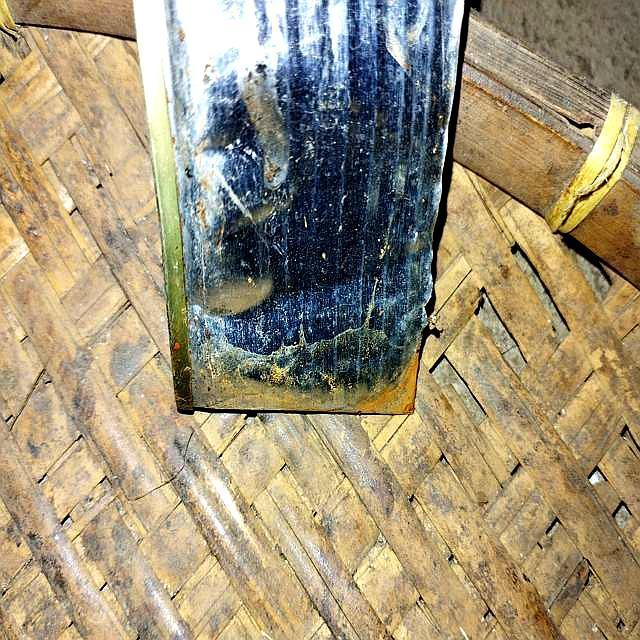Non-biodegradable: (134, 1, 473, 417)
